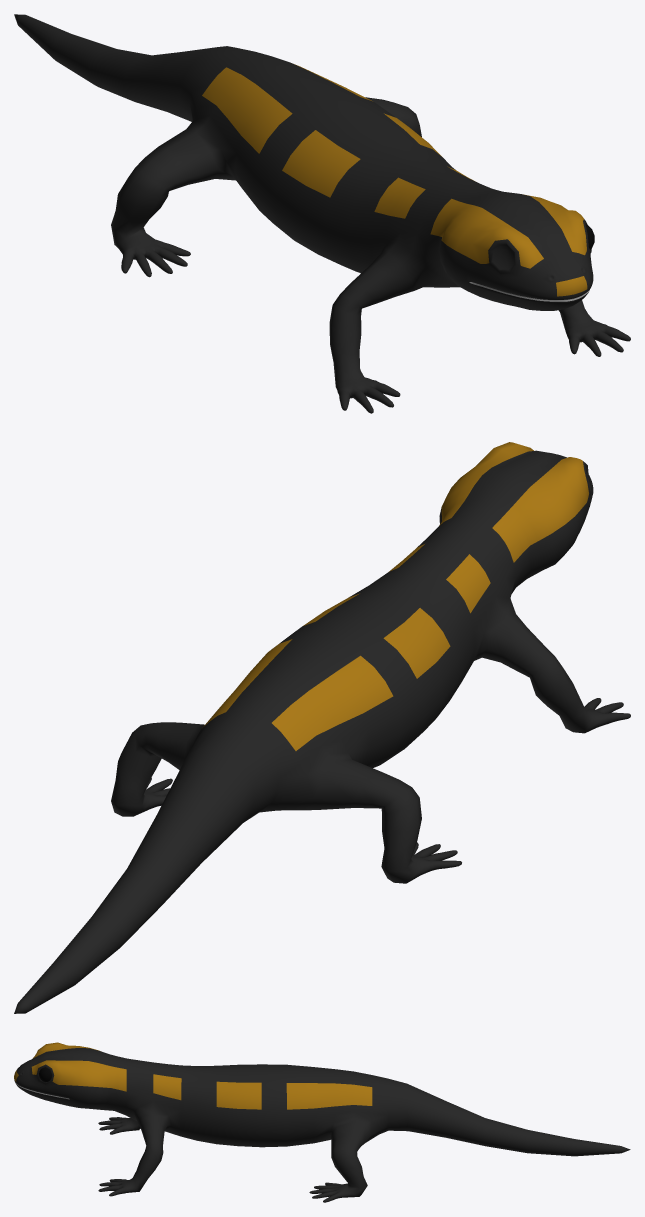
Rendered from salamander.obj.
3 renders of one model, top to bottom at view 1: azimuth 30°, elevation 25°; view 2: azimuth 150°, elevation 25°; view 3: azimuth 270°, elevation 25°, orthographic. The views are drawn at different scales.
Visible parts, largest first — view 1: salamander; view 2: salamander; view 3: salamander.
Boxes of the visible parts, <box> form: salamander: <box>14,14,630,413</box>; salamander: <box>14,442,630,1013</box>; salamander: <box>14,1042,630,1202</box>.
Size of the model in its own units: 0.0893 by 0.0489 by 0.2558.
